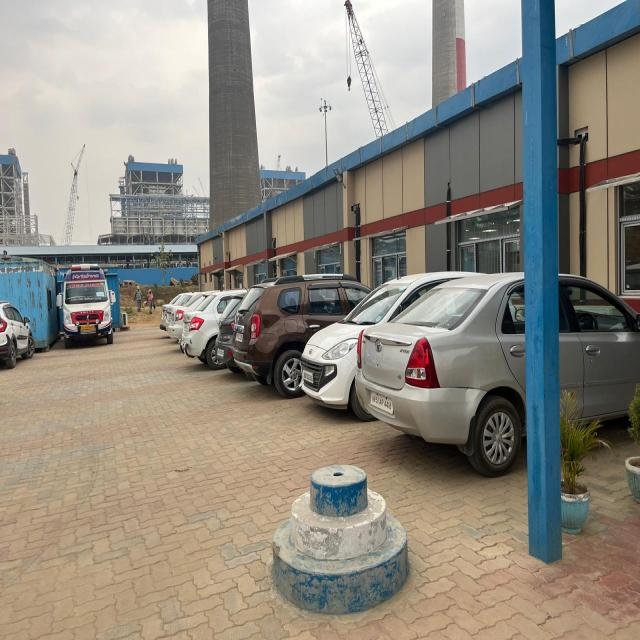car: (357, 271, 640, 461), (232, 267, 364, 395), (302, 271, 384, 409), (0, 296, 38, 376)
